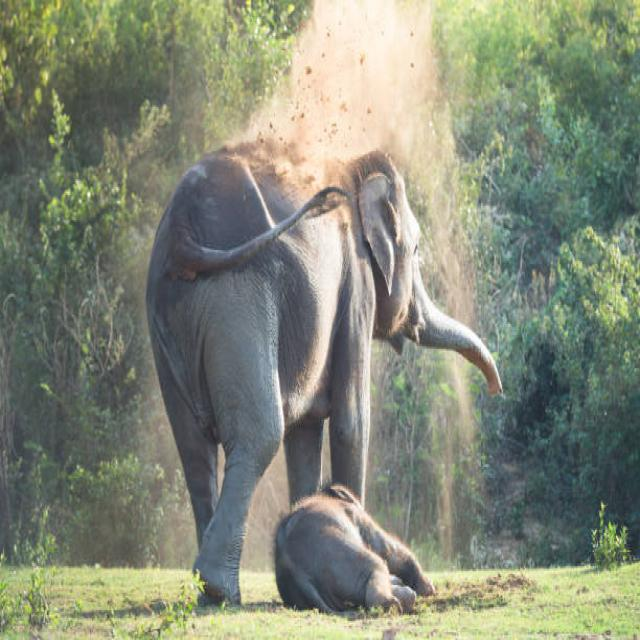Elephant: (138, 125, 498, 608), (251, 462, 447, 639)
